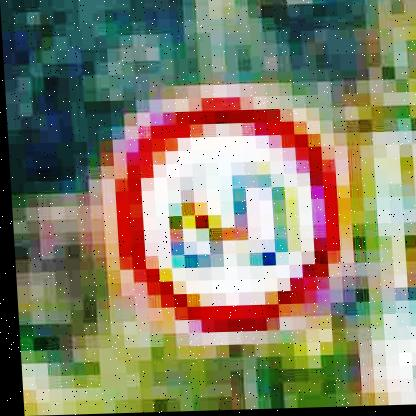Speed Limit -60-: (86, 87, 355, 349)
